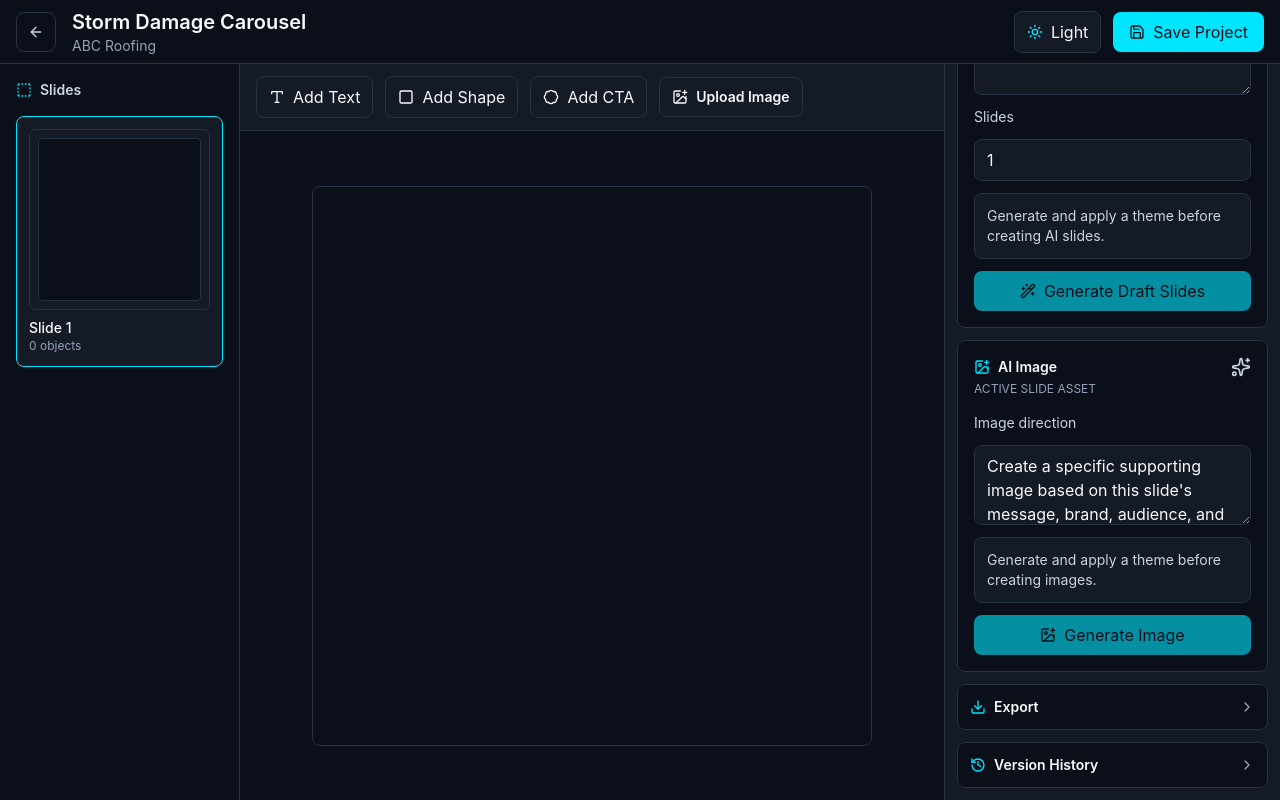
Scenario: ProjectEditorShell › autosaves canvas edits and shows recent versions
(page scrolled)
Click the button "Version History" at (1046, 764), box x1=970 y1=755 x2=1255 y2=775
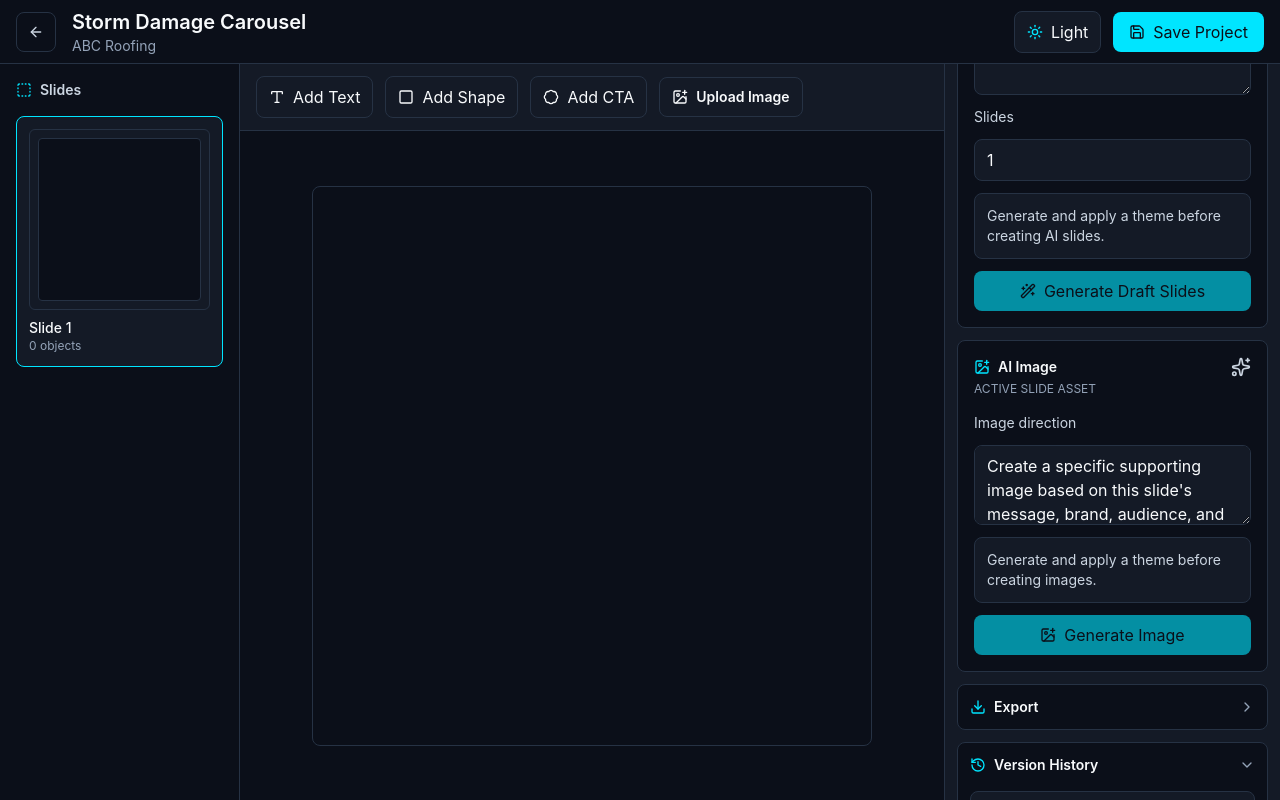
Click the button "Add Text" at (315, 97), box x1=256 y1=76 x2=374 y2=118
(page scrolled)
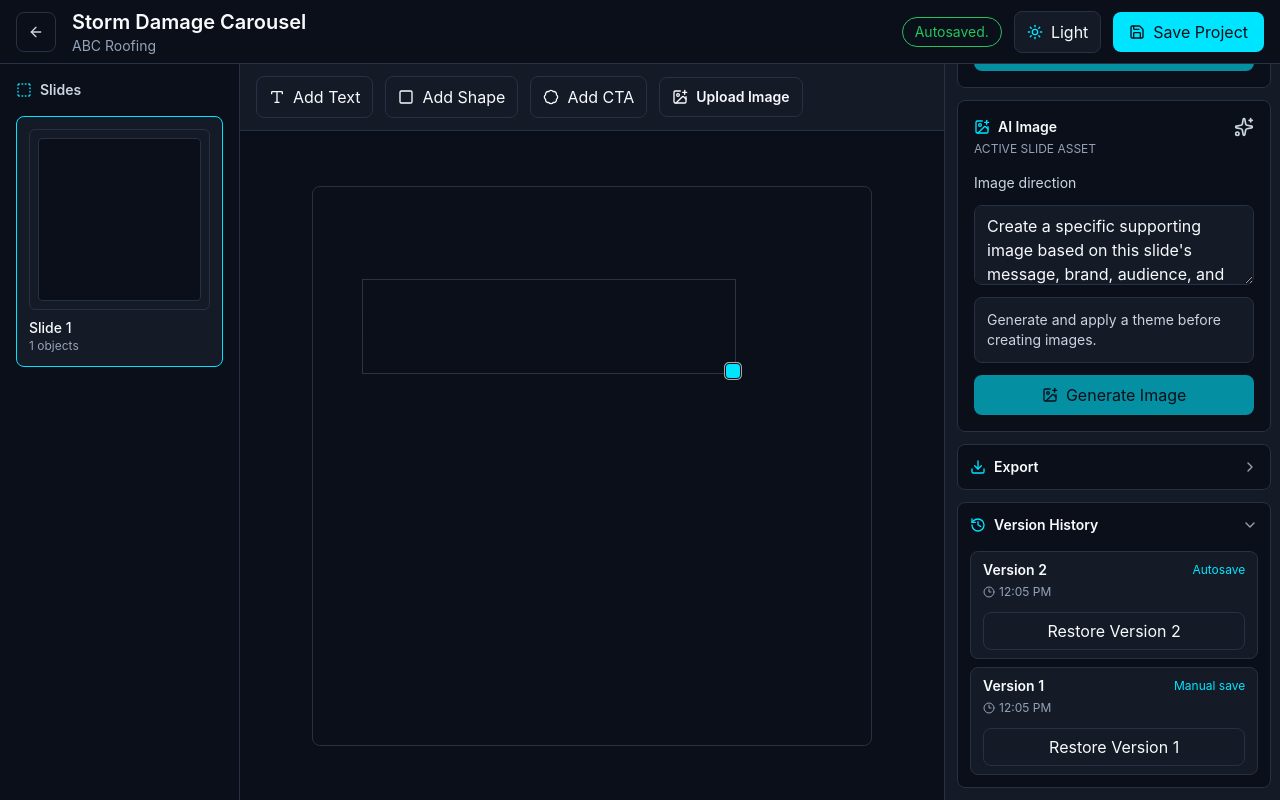
Now the text "Autosaved." is shown, box x1=902 y1=16 x2=1002 y2=46
Now the text "Autosave" is shown, box x1=1192 y1=562 x2=1245 y2=578
Now the text "Version 2" is shown, box x1=983 y1=560 x2=1047 y2=580
